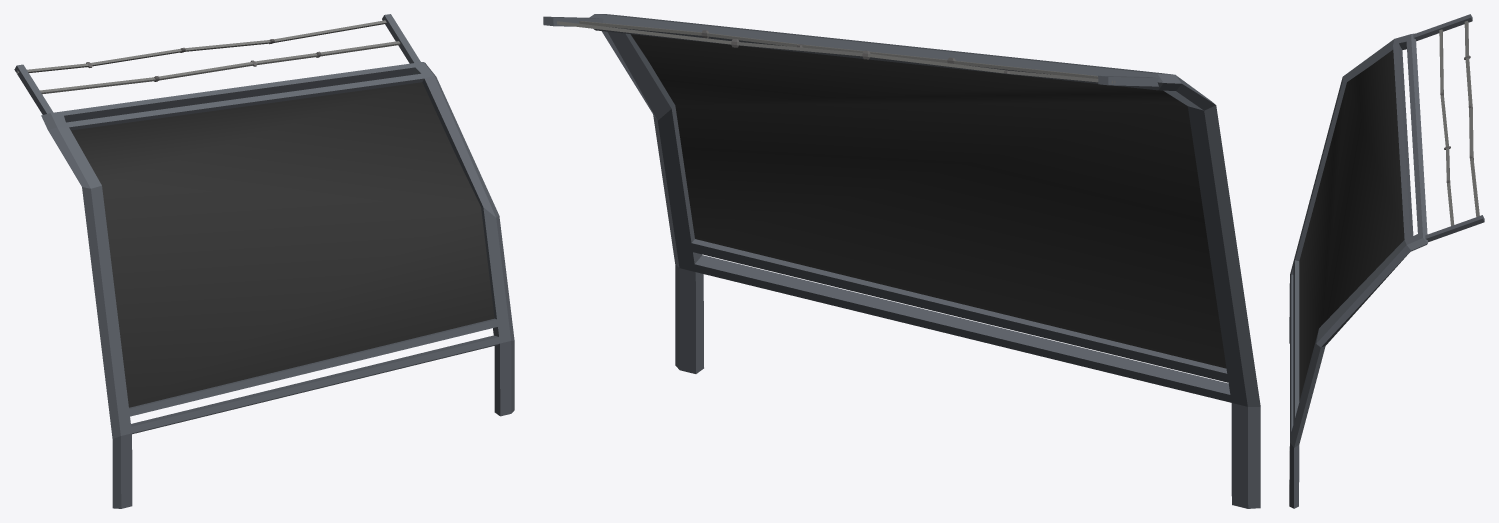
File: SM_Prop_Fence_Damaged_01.fbx
3 renders of one model, left to right at view 1: azimuth 30°, elevation 25°; view 2: azimuth 150°, elevation 25°; view 3: azimuth 270°, elevation 25°, orthographic. The views are drawn at different scales.
Visible parts, largest first — view 1: SM_Prop_Fence_Damaged_01; view 2: SM_Prop_Fence_Damaged_01; view 3: SM_Prop_Fence_Damaged_01.
Part boxes in pixels (x1,y1,x2,y2): SM_Prop_Fence_Damaged_01: [14, 14, 514, 508]; SM_Prop_Fence_Damaged_01: [543, 14, 1260, 508]; SM_Prop_Fence_Damaged_01: [1289, 14, 1484, 508].
Size of the model in its own units: 307 by 266 by 145.
